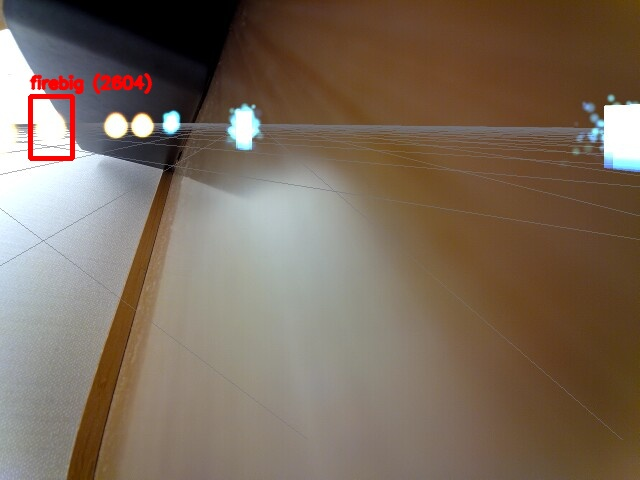firebig: (30, 96, 72, 158)
